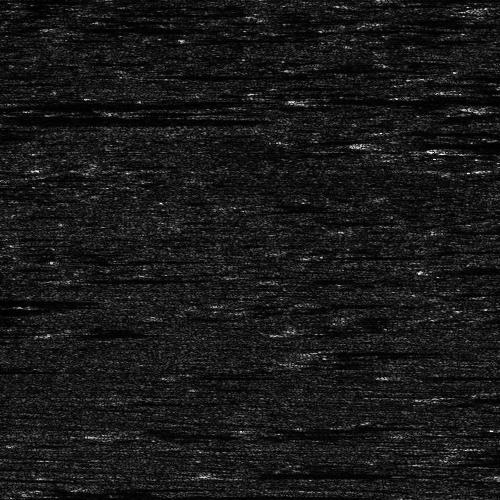object: (244, 134, 453, 153), (352, 143, 500, 156), (0, 95, 59, 112), (442, 385, 473, 408), (426, 70, 499, 79), (31, 275, 114, 280), (366, 129, 429, 134), (464, 5, 500, 10), (377, 374, 418, 377), (490, 100, 500, 107)
shadow: (0, 106, 193, 131), (2, 95, 279, 112), (349, 134, 500, 153), (457, 385, 500, 408), (440, 143, 500, 156), (73, 275, 196, 280), (398, 129, 500, 134), (462, 70, 500, 79), (398, 374, 500, 377), (0, 295, 14, 304)
